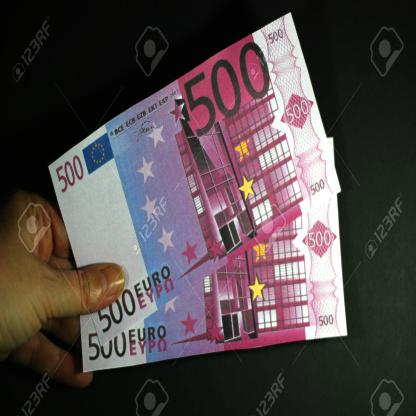euro_banknote: (30, 86, 363, 275), (68, 256, 374, 357)
